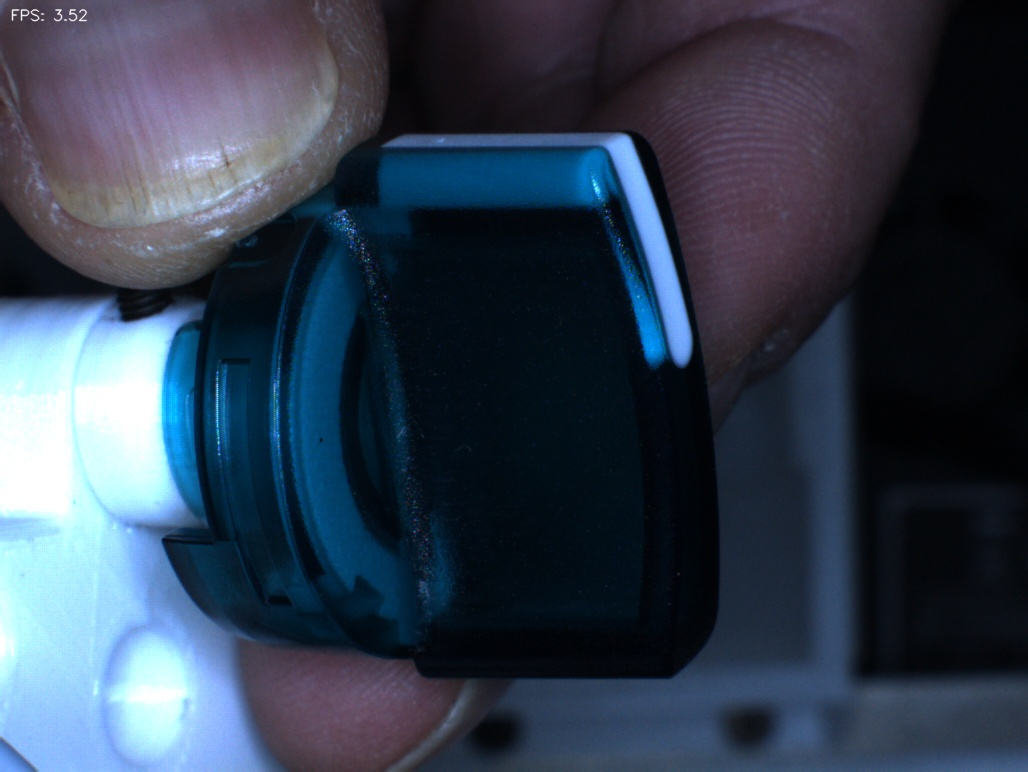PointNoir: (290, 399, 353, 477)
